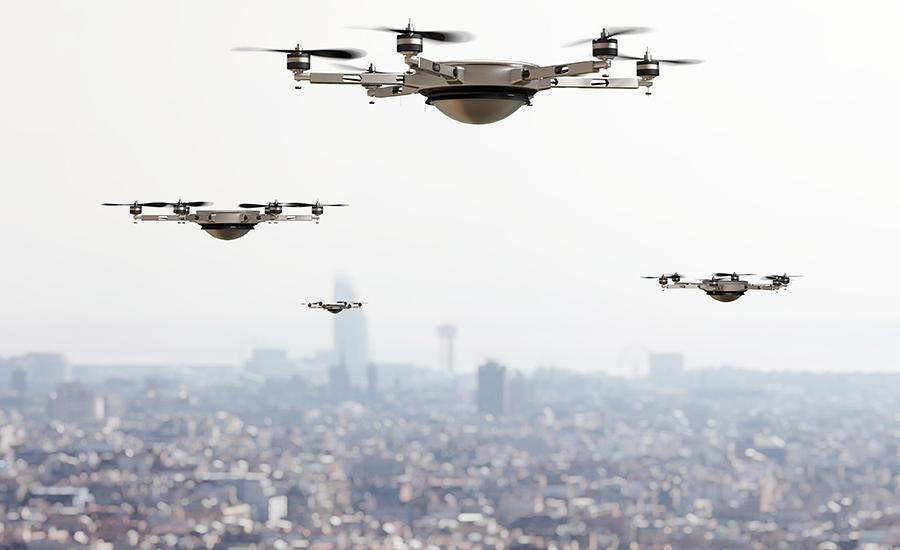drone: (271, 16, 699, 111), (95, 195, 341, 245), (639, 267, 799, 312), (301, 295, 362, 319)
